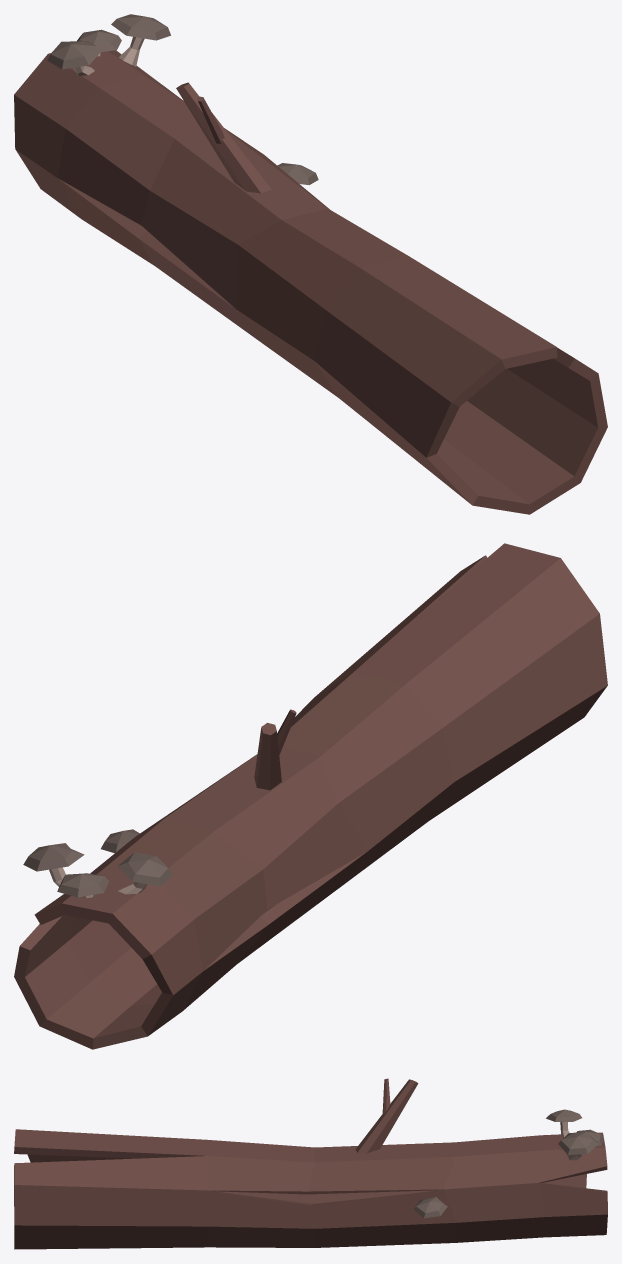
The model's file is WoodLog.glb.
3 renders of one model, top to bottom at view 1: azimuth 30°, elevation 25°; view 2: azimuth 150°, elevation 25°; view 3: azimuth 270°, elevation 25°, orthographic. The views are drawn at different scales.
Parts seen in each view (by area): view 1: WoodLog; view 2: WoodLog; view 3: WoodLog.
Boxes of the visible parts, box(x1,y1,x2,y2) form: WoodLog: box(14, 14, 607, 514); WoodLog: box(14, 543, 607, 1049); WoodLog: box(14, 1078, 607, 1249).
Size of the model in its own units: 0.6329 by 0.7483 by 2.67.
